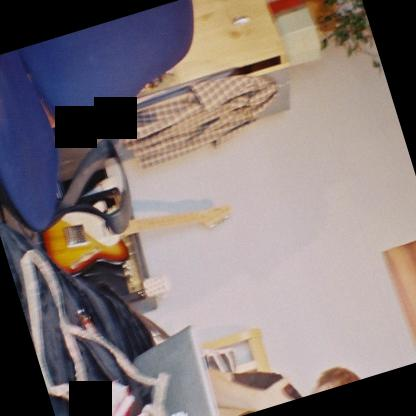handbag: (16, 243, 169, 416)
